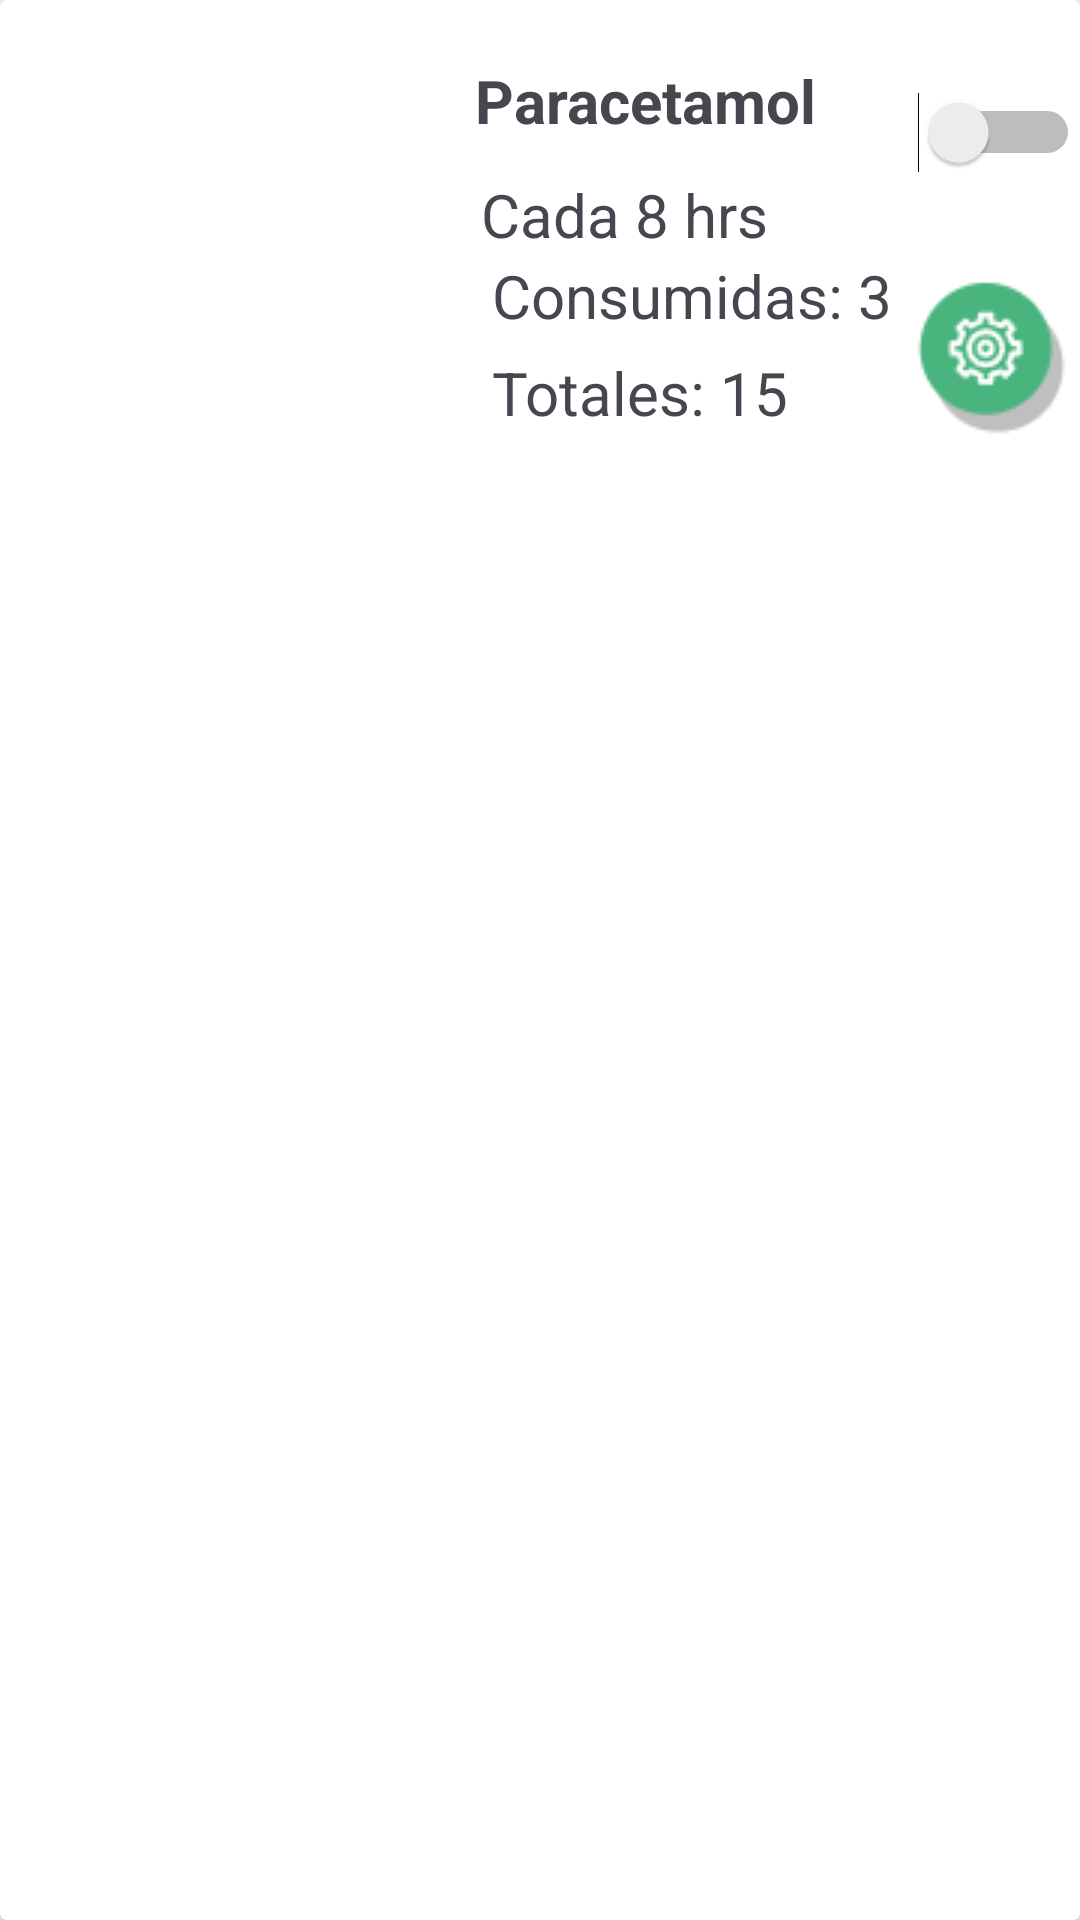

Icons on this 1080 × 1920 Android screen, each with the point to tap as point (x, y):
ajustes: point (990, 357)
